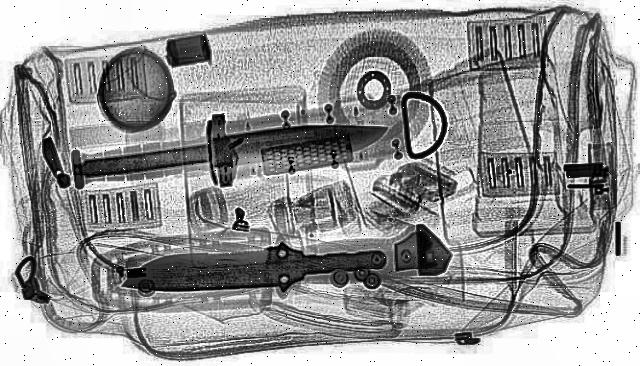Knife: (52, 90, 412, 208), (111, 227, 397, 310)
